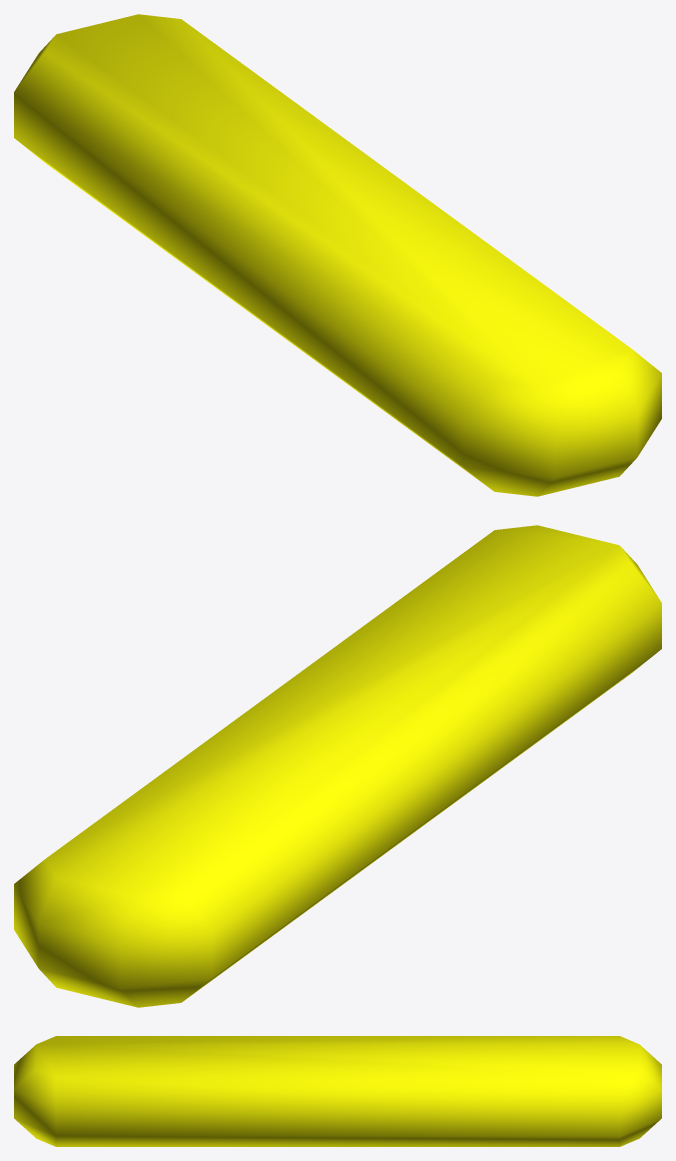
Rendered from arm_mico.bbox.gltf.
3 renders of one model, top to bottom at view 1: azimuth 30°, elevation 25°; view 2: azimuth 150°, elevation 25°; view 3: azimuth 270°, elevation 25°, orthographic. The views are drawn at different scales.
Parts seen in each view (by area): view 1: arm_mico.bbox; view 2: arm_mico.bbox; view 3: arm_mico.bbox.
Part boxes in pixels (x1,y1,x2,y2): arm_mico.bbox: [14, 14, 661, 496]; arm_mico.bbox: [14, 525, 661, 1007]; arm_mico.bbox: [14, 1036, 661, 1146].
Size of the model in its own units: 0.0825 by 0.0438 by 0.3725.
